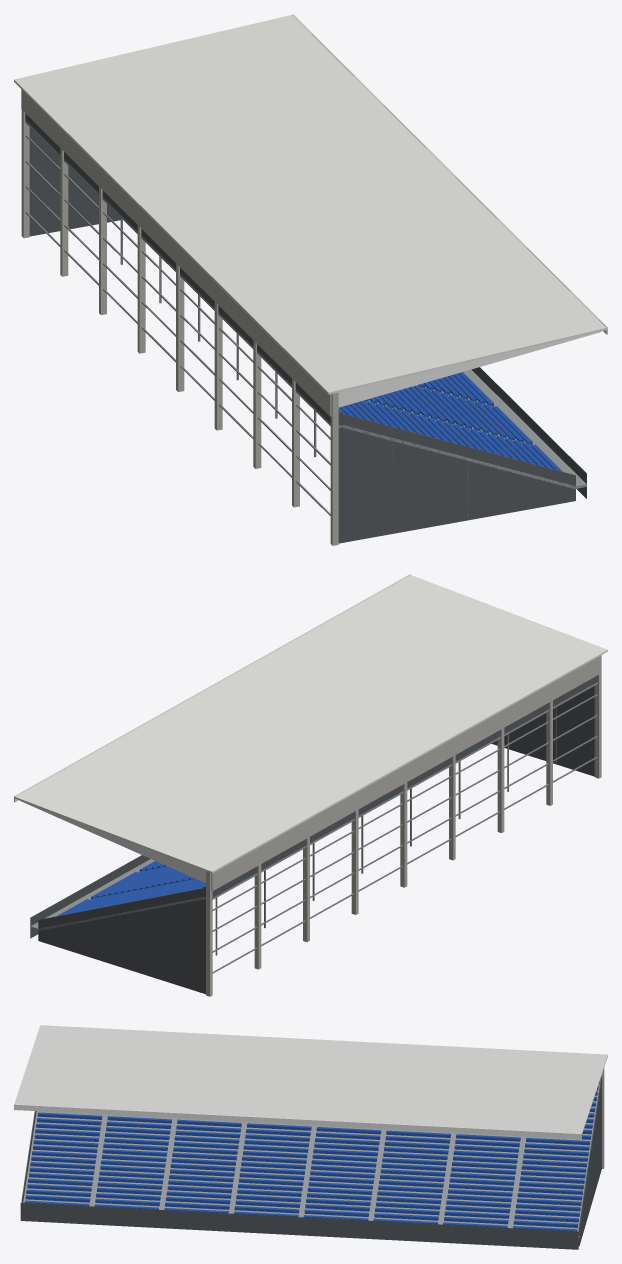
The model's file is mza_stand_centrale.glb.
3 views of the same model, one above another, from view 1: azimuth 30°, elevation 25°; view 2: azimuth 150°, elevation 25°; view 3: azimuth 270°, elevation 25° (orthographic). The views are drawn at different scales.
Parts seen in each view (by area): view 1: monza-centrale; view 2: monza-centrale; view 3: monza-centrale.
Part boxes in pixels (left/top/right/bottom): monza-centrale: left=14, top=14, right=607, bottom=545; monza-centrale: left=14, top=574, right=607, bottom=996; monza-centrale: left=14, top=1025, right=607, bottom=1249.
Bounding box in the file's own units: 34.09 × 16.15 × 71.35.
